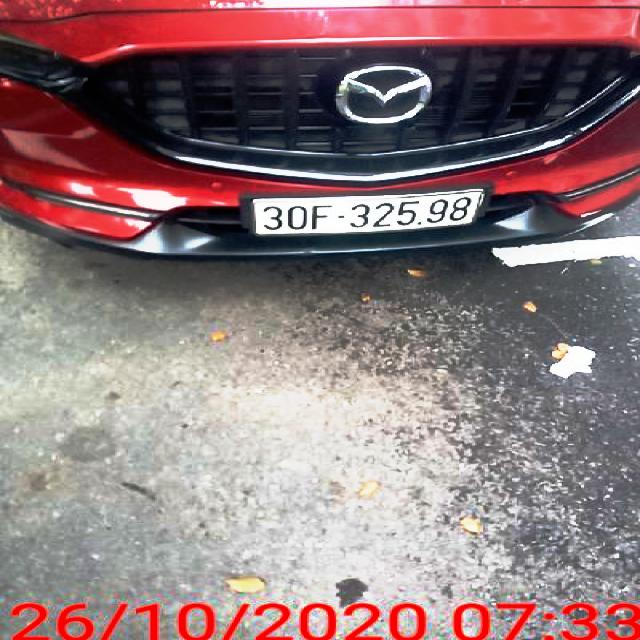license_plate: (254, 190, 486, 236)
